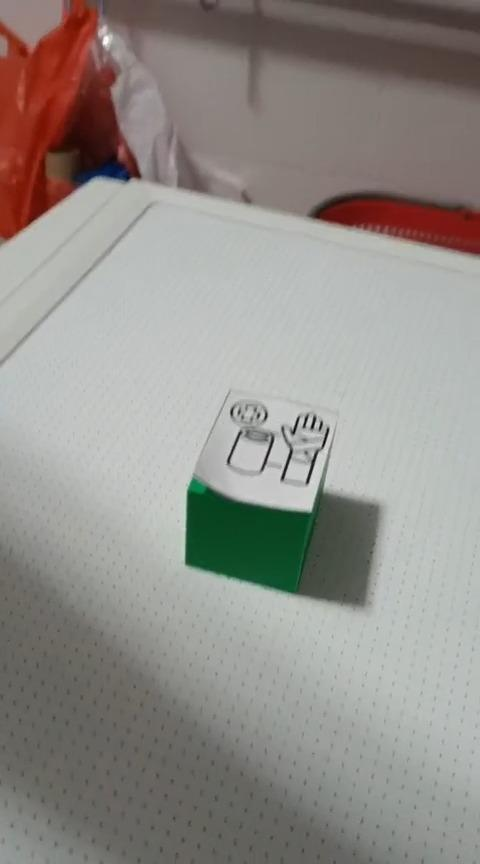Bandages: (183, 388, 339, 594)
